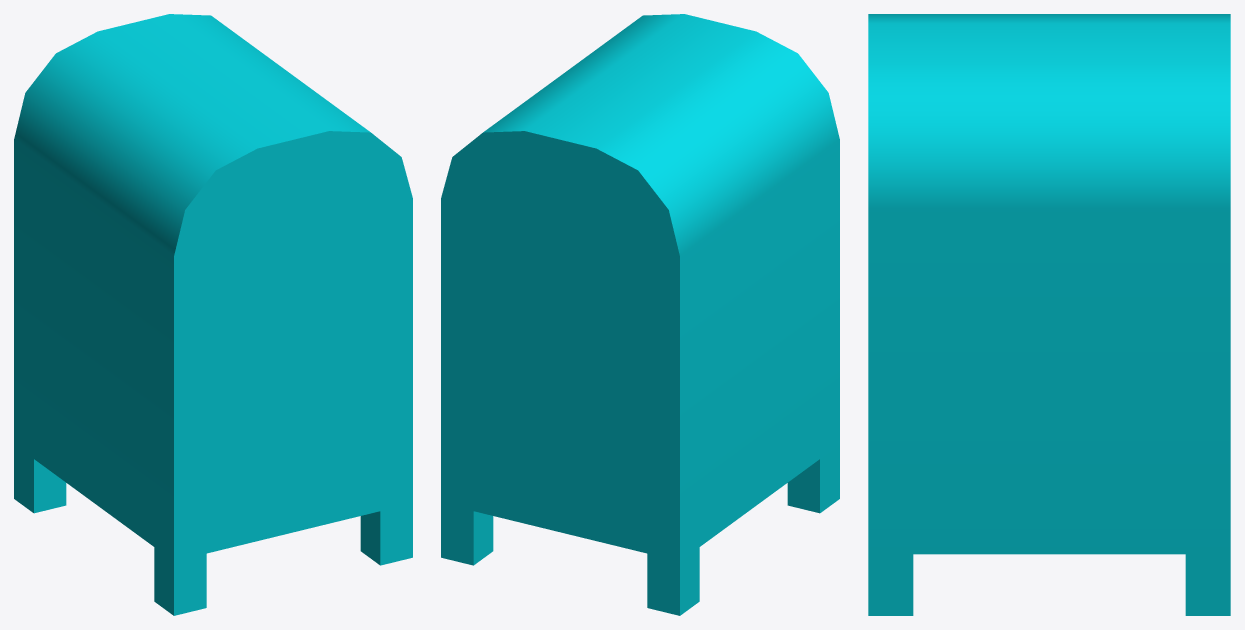
File: Mailbox.fbx
The picture shows the model from 3 angles, left to right: view 1: azimuth 30°, elevation 25°; view 2: azimuth 150°, elevation 25°; view 3: azimuth 270°, elevation 25°; orthographic projection. The views are drawn at different scales.
Parts seen in each view (by area): view 1: Mailbox; view 2: Mailbox; view 3: Mailbox.
Boxes of the visible parts, x1=… form: Mailbox: x1=14, y1=14, x2=412, y2=615; Mailbox: x1=441, y1=14, x2=839, y2=615; Mailbox: x1=868, y1=14, x2=1230, y2=615.
Size of the model in its own units: 40.75 by 72.87 by 47.25.
